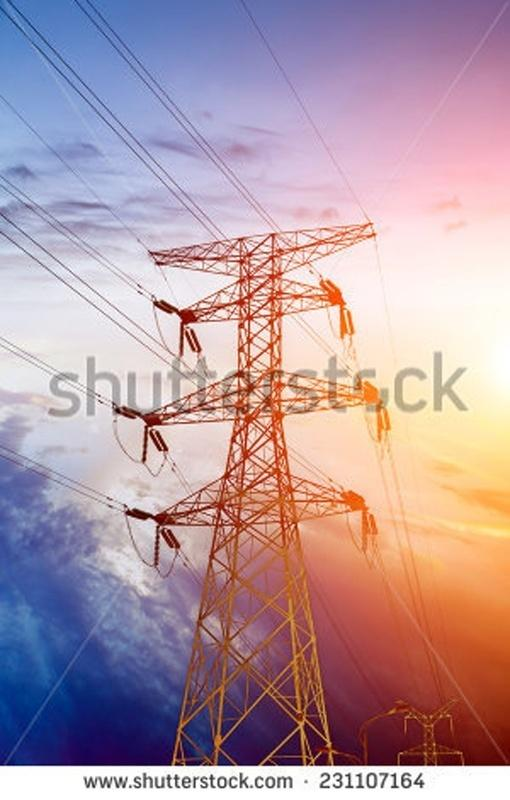power_tower: (110, 212, 409, 757)
